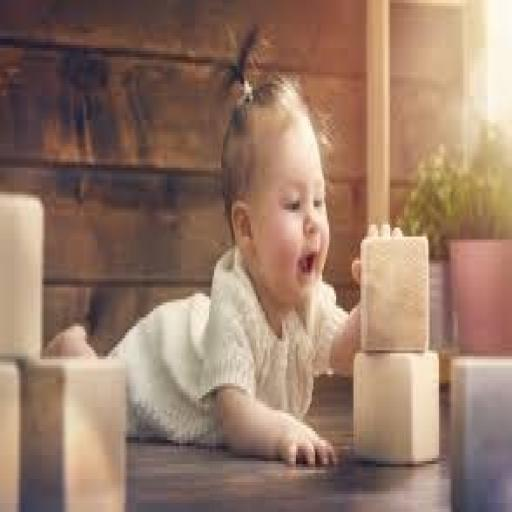baby: (105, 60, 360, 464)
